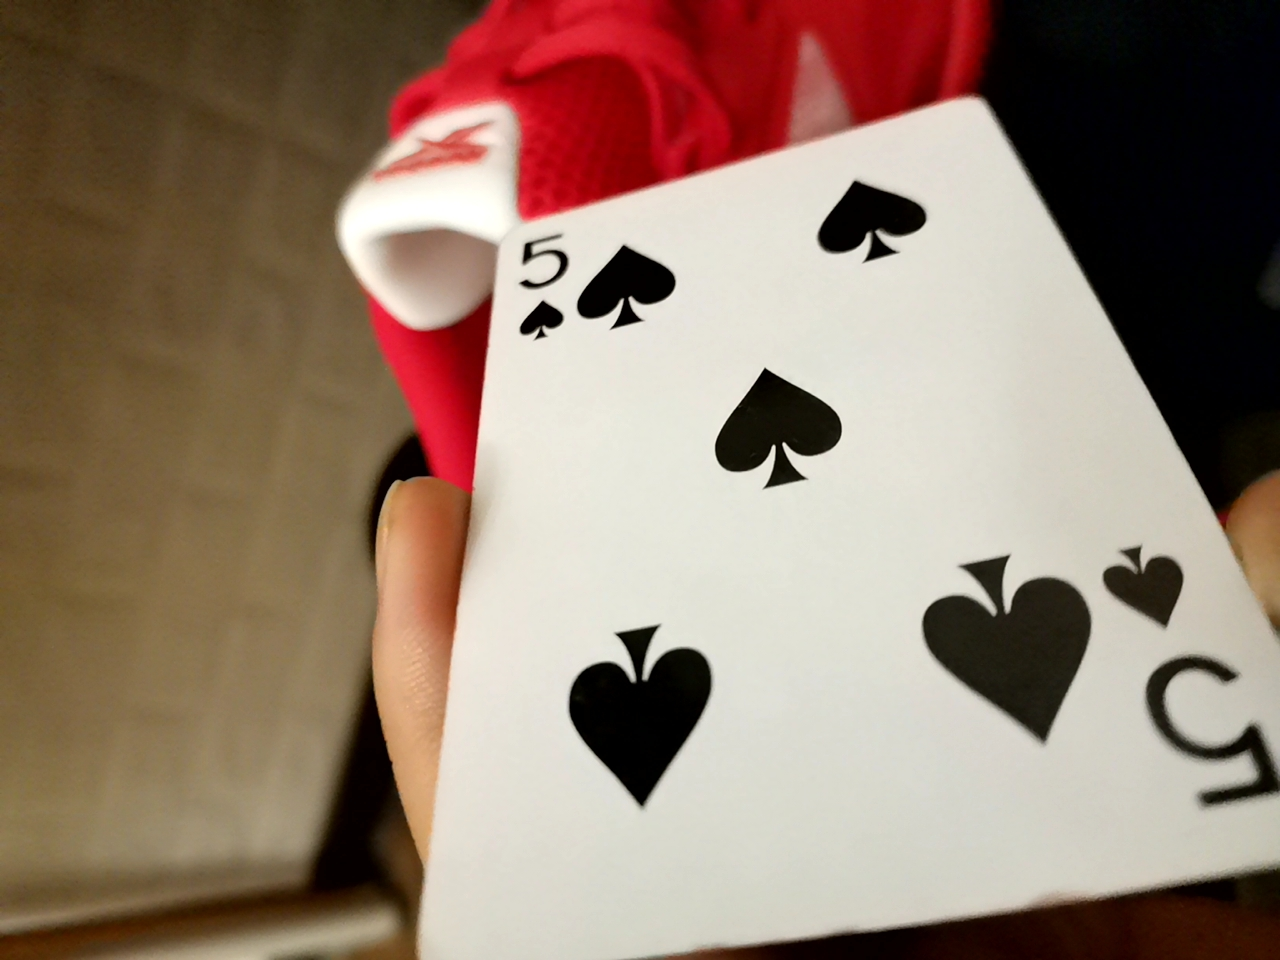ht 5: (402, 115, 1270, 951)
